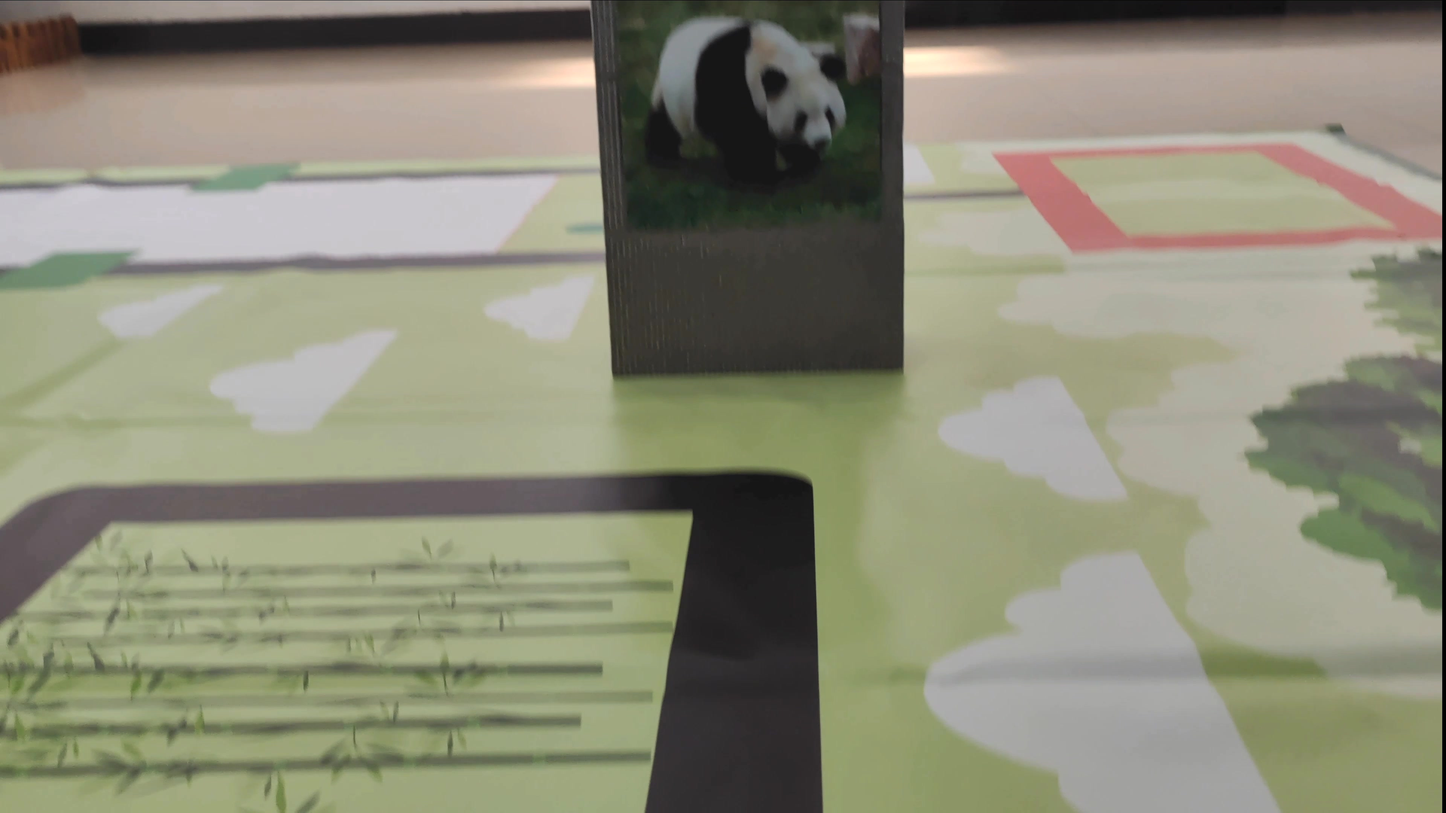panda: (640, 8, 888, 210)
